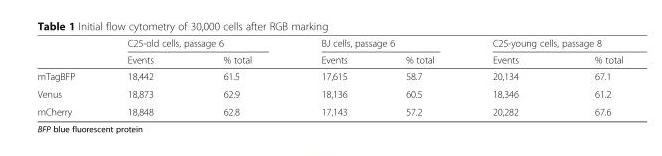table: (36, 37, 622, 117)
table column: (187, 37, 285, 117), (462, 37, 556, 117), (285, 37, 375, 117), (100, 37, 187, 117), (375, 37, 462, 117), (556, 37, 622, 117), (36, 37, 100, 117)
table column header: (36, 37, 622, 67)
table row: (36, 84, 622, 102), (36, 67, 622, 84), (36, 51, 622, 67), (36, 102, 622, 117), (36, 37, 622, 51)
table spanning cell: (100, 37, 285, 51), (285, 37, 462, 51), (462, 37, 622, 51)
